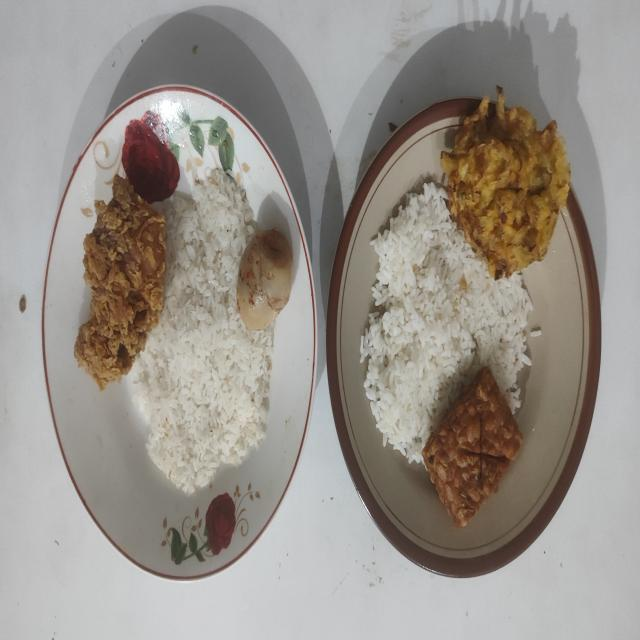nasi_putih: (360, 182, 532, 462), (133, 170, 274, 492)
tempe_goreng: (422, 368, 522, 528)
